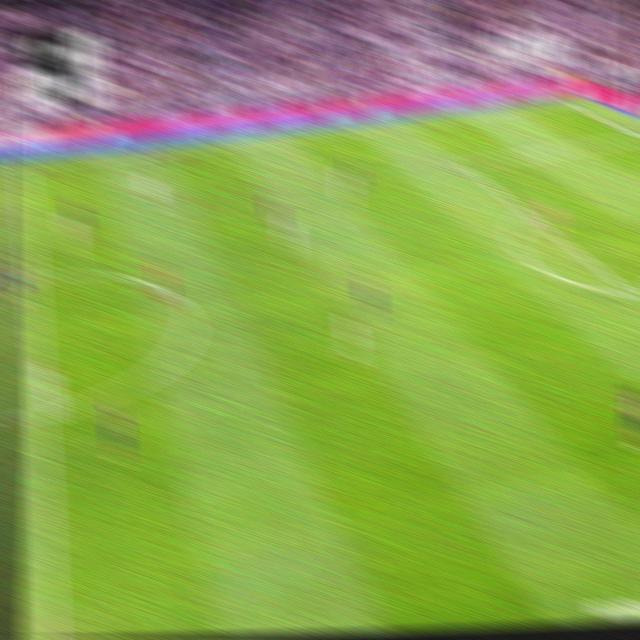bigarea_top_inner: (454, 154, 472, 173)
bigarea_top_outter: (627, 125, 640, 143)
bottom_arc_area_intersection: (622, 280, 640, 304)
corner: (553, 92, 573, 107)
halfcircle_top: (21, 263, 41, 288)
midline_top_intersection: (15, 155, 32, 174)
top_arc_area_intersection: (519, 203, 537, 222)
